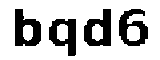6: (117, 6, 152, 51)
b: (7, 4, 42, 47)
d: (81, 6, 118, 52)
q: (46, 16, 79, 60)
